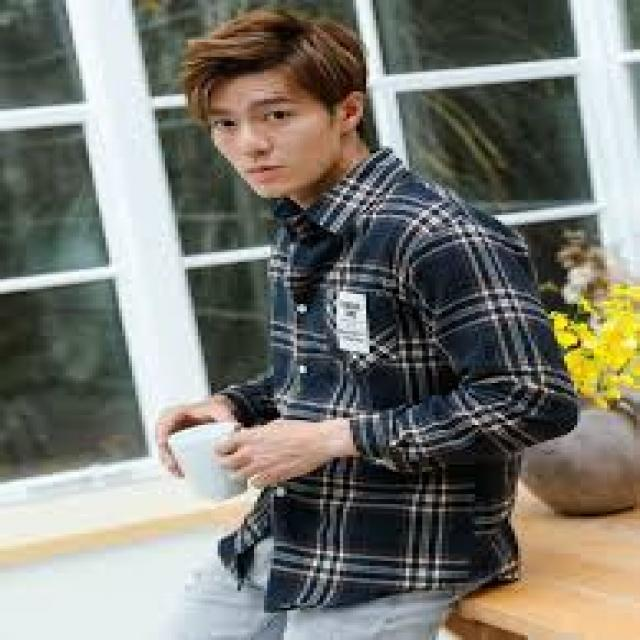plaid: (179, 198, 583, 598)
